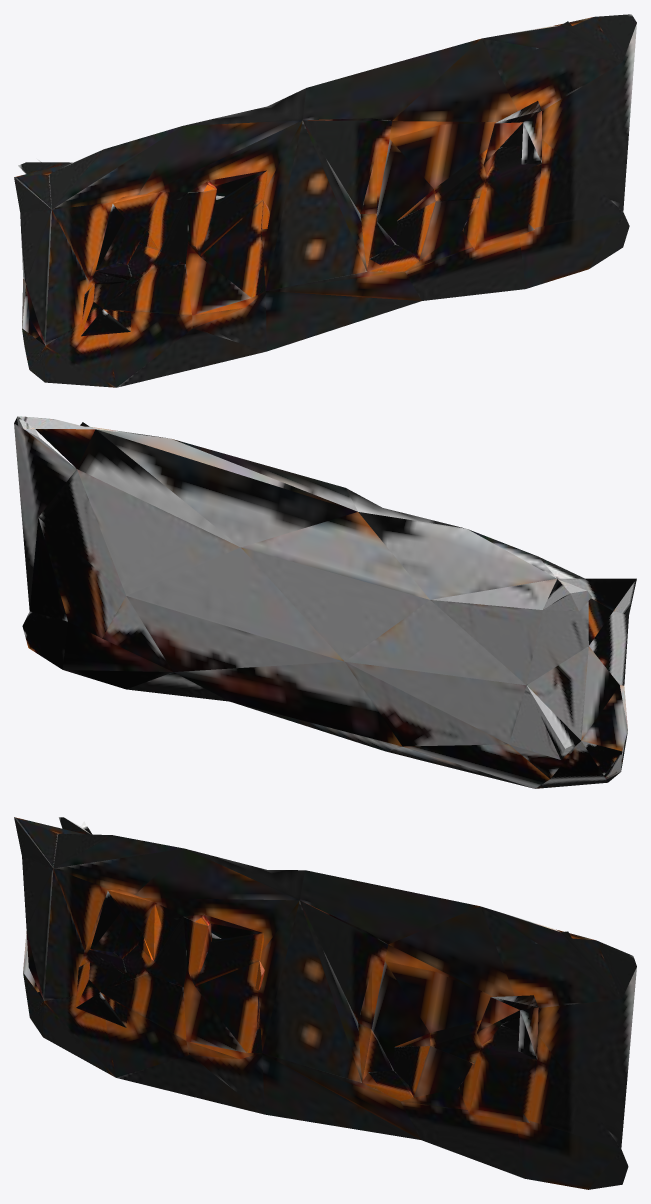
Rendered from gym_scoreboard_low.glb.
3 views of the same model, one above another, from view 1: azimuth 30°, elevation 25°; view 2: azimuth 150°, elevation 25°; view 3: azimuth 330°, elevation 25° (orthographic).
Visible parts, largest first — view 1: output_unwrapped; view 2: output_unwrapped; view 3: output_unwrapped.
Boxes of the visible parts, box(x1,y1,x2,y2) form: output_unwrapped: box(14, 14, 636, 387); output_unwrapped: box(14, 416, 636, 788); output_unwrapped: box(14, 817, 636, 1189).
Size of the model in its own units: 2.4 by 0.9628 by 0.19.
1 material, 1 textured.
